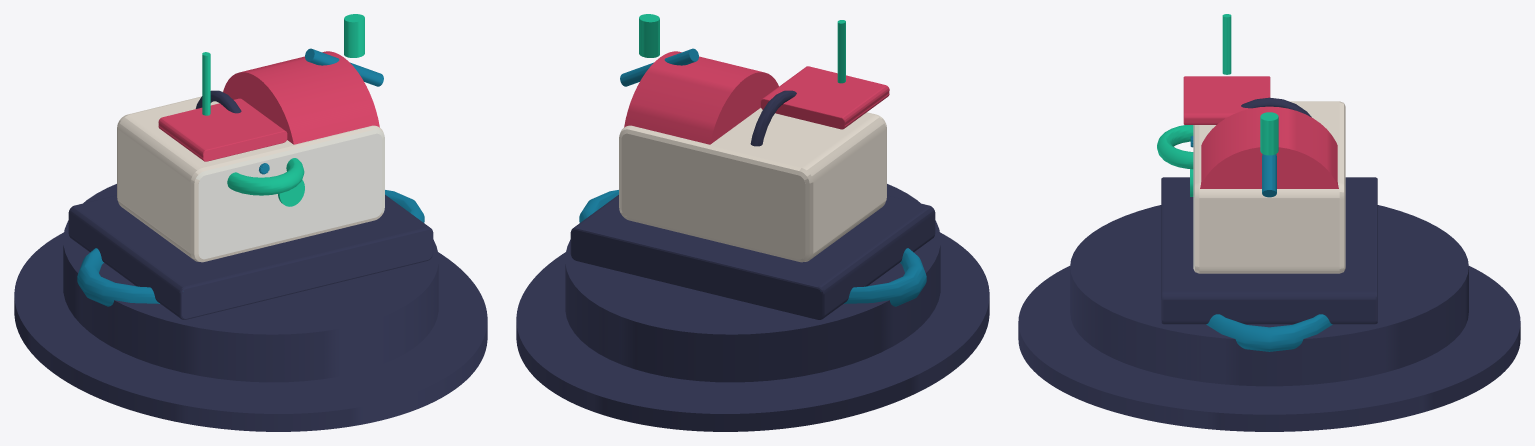
Rendered from 0559_伟大的发明图鉴_法拉第圆盘.glb.
3 views of the same model, side by side, from view 1: azimuth 30°, elevation 25°; view 2: azimuth 150°, elevation 25°; view 3: azimuth 270°, elevation 25° (orthographic). The views are drawn at different scales.
Parts seen in each view (by area): view 1: card_0559; view 2: card_0559; view 3: card_0559.
Part boxes in pixels (<box>): card_0559: <box>14,14,487,431</box>; card_0559: <box>516,14,989,431</box>; card_0559: <box>1018,14,1520,431</box>.
Bounding box in the file's own units: 1.36 × 1 × 1.56.
